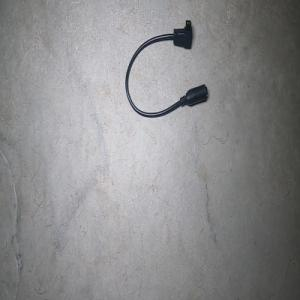Wire: (125, 19, 207, 118)
